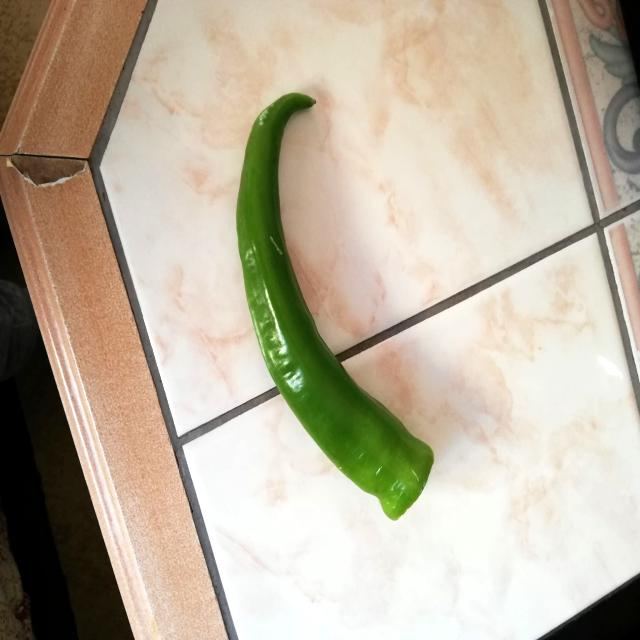green pepper: (232, 81, 436, 523)
